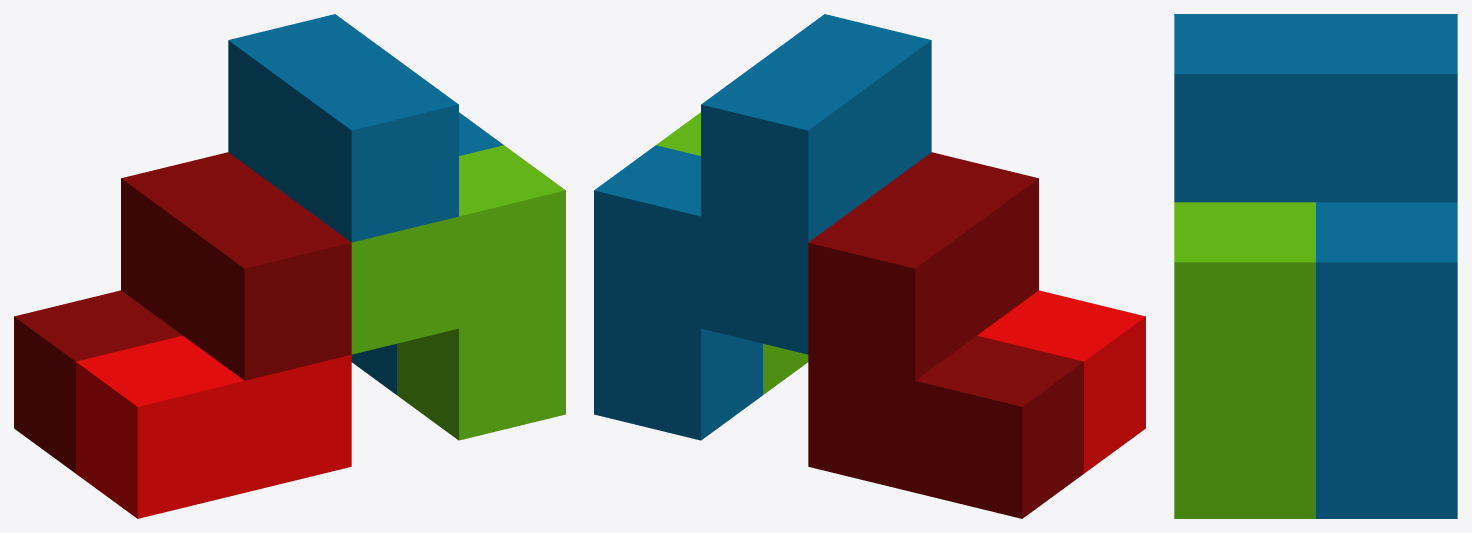
3 views of the same model, side by side, from view 1: azimuth 30°, elevation 25°; view 2: azimuth 150°, elevation 25°; view 3: azimuth 270°, elevation 25° (orthographic). The views are drawn at different scales.
Parts seen in each view (by area): view 1: mergedBlocks(Clone); view 2: mergedBlocks(Clone); view 3: mergedBlocks(Clone).
Part boxes in pixels (left/top/right/bottom): mergedBlocks(Clone): left=14, top=14, right=565, bottom=518; mergedBlocks(Clone): left=594, top=14, right=1145, bottom=518; mergedBlocks(Clone): left=1174, top=14, right=1457, bottom=518.
Size of the model in its own units: 4 by 3 by 2.
4 materials, 4 textured.
